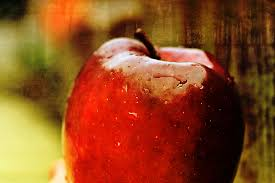damaged_apple: (66, 41, 241, 177)
